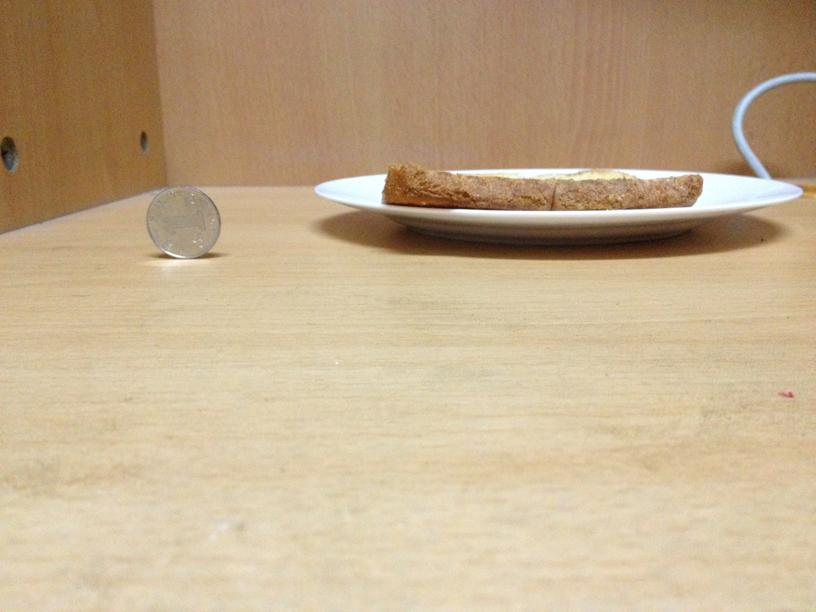bread: (374, 161, 706, 212)
coin: (145, 185, 219, 257)
